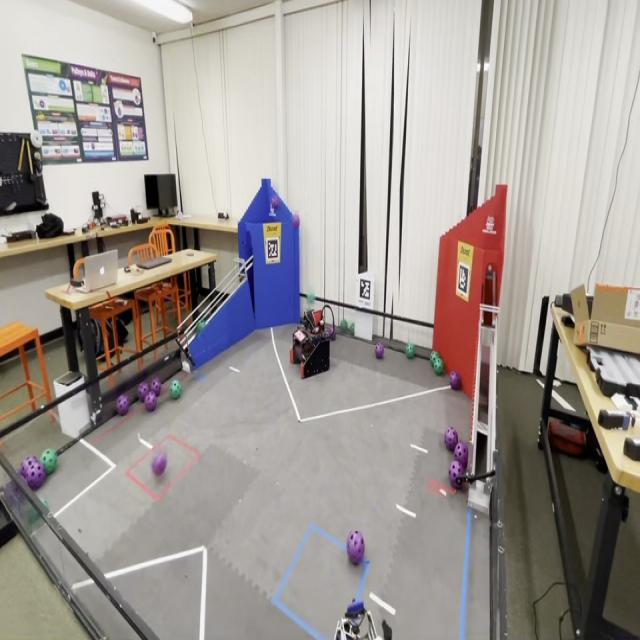artifact_green: (40, 448, 57, 475), (26, 505, 42, 527), (26, 505, 40, 527), (170, 380, 181, 399), (434, 358, 444, 375), (326, 325, 336, 341), (406, 343, 415, 359), (430, 351, 439, 366), (196, 320, 205, 334), (271, 195, 279, 209), (307, 292, 315, 305), (340, 318, 348, 331), (41, 498, 49, 510), (434, 356, 443, 365), (349, 323, 355, 336), (306, 306, 314, 314)
artifact_purple: (347, 531, 364, 565), (26, 462, 45, 490), (3, 482, 23, 508), (18, 457, 39, 478), (449, 460, 464, 489), (454, 443, 468, 470), (152, 452, 167, 476), (444, 427, 458, 451), (144, 392, 157, 412), (116, 395, 129, 415), (150, 377, 161, 397), (138, 382, 149, 401), (450, 371, 461, 389), (328, 325, 336, 341), (376, 343, 383, 359), (271, 195, 279, 209), (292, 214, 299, 228)
